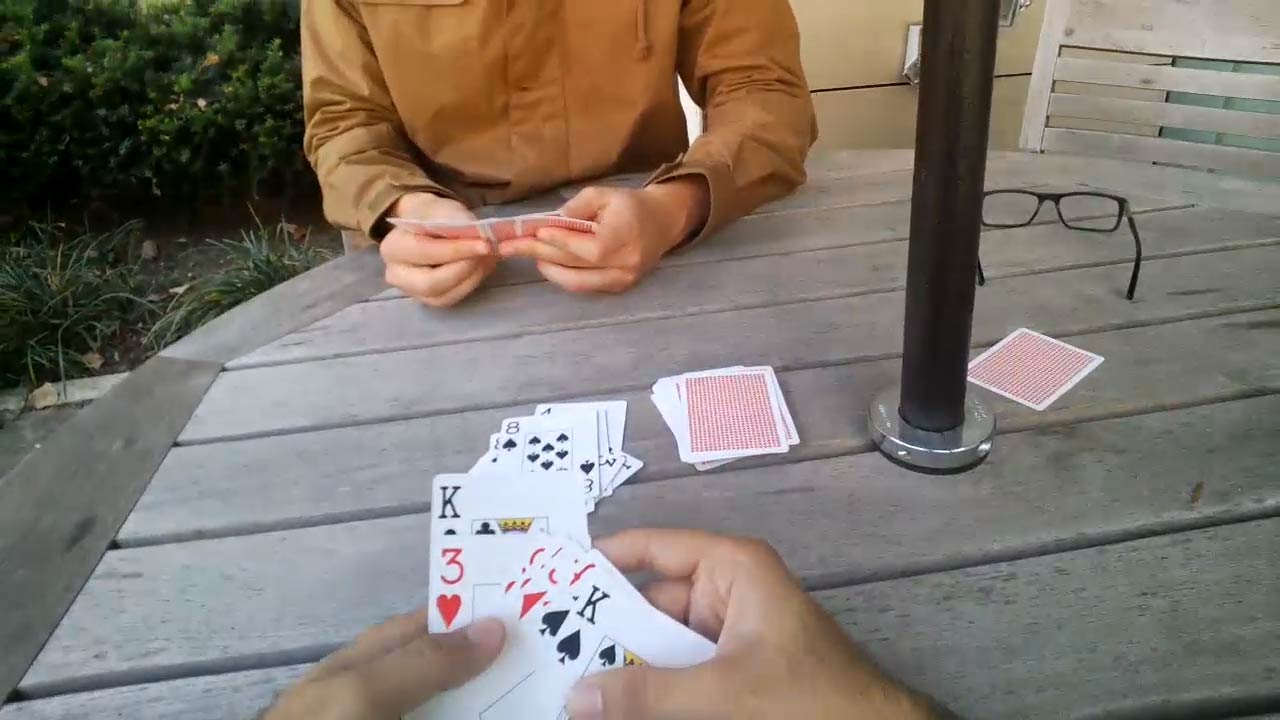hand: (569, 526, 964, 718), (253, 596, 503, 718), (499, 185, 658, 294), (375, 200, 496, 309)
